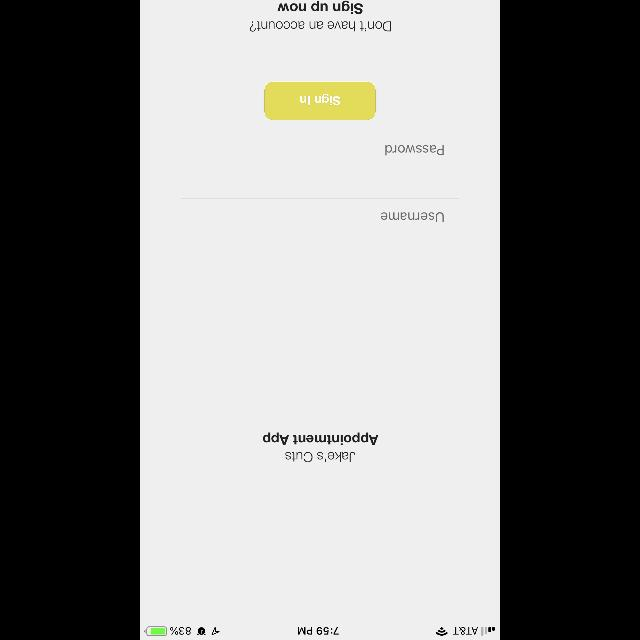input: (182, 130, 458, 156), (182, 198, 458, 222)
text: (250, 20, 390, 32), (262, 432, 378, 446), (277, 0, 363, 14), (285, 452, 355, 462), (385, 144, 443, 156), (381, 212, 444, 222)
textbutton: (264, 82, 376, 120)
uppertaskbar: (140, 626, 500, 640)
